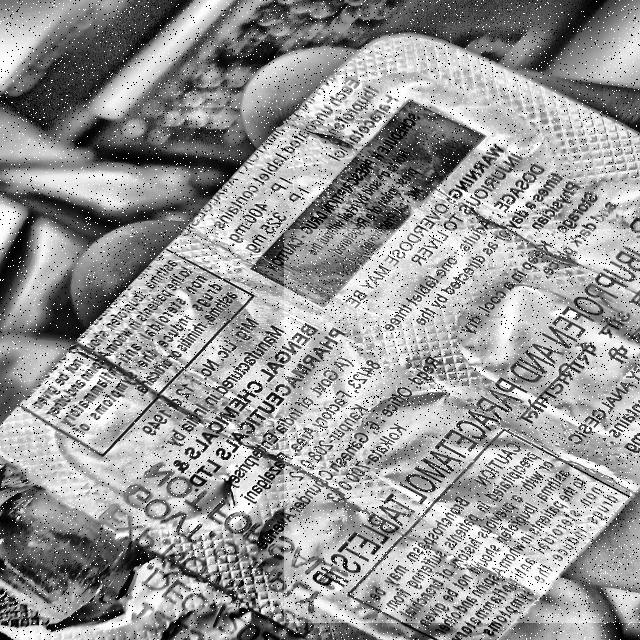IBUPROFEN AND PARACETAMOL TABLETS: (284, 230, 640, 623)
